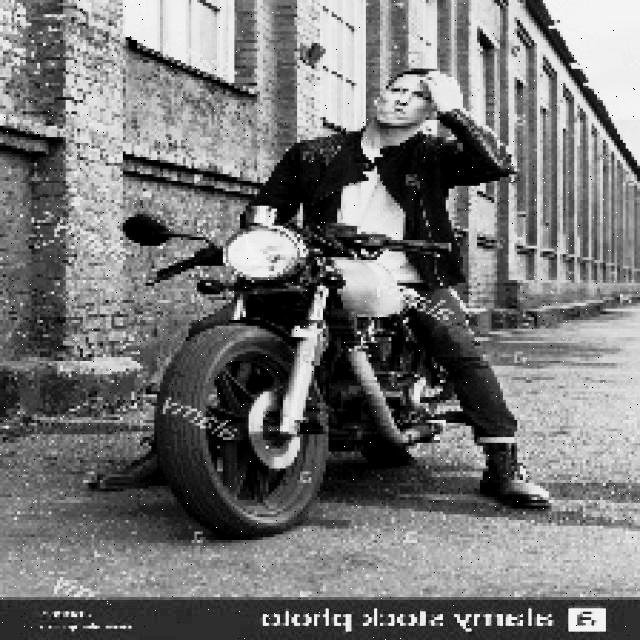Bike: (132, 218, 464, 531)
